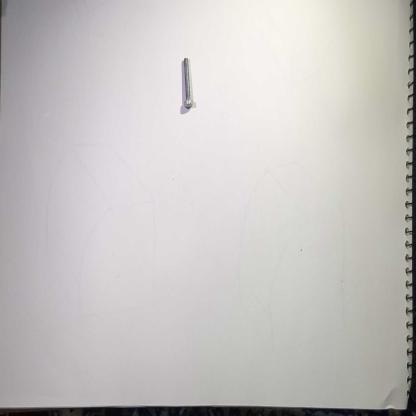Bolts: (178, 53, 198, 113)
